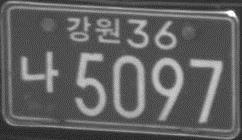0: (112, 54, 146, 119)
3: (125, 18, 149, 48)
5: (74, 51, 107, 116)
6: (154, 20, 177, 49)
7: (188, 58, 223, 123)
9: (150, 56, 185, 121)
강원_O: (66, 16, 121, 44)
나: (20, 50, 58, 93)
